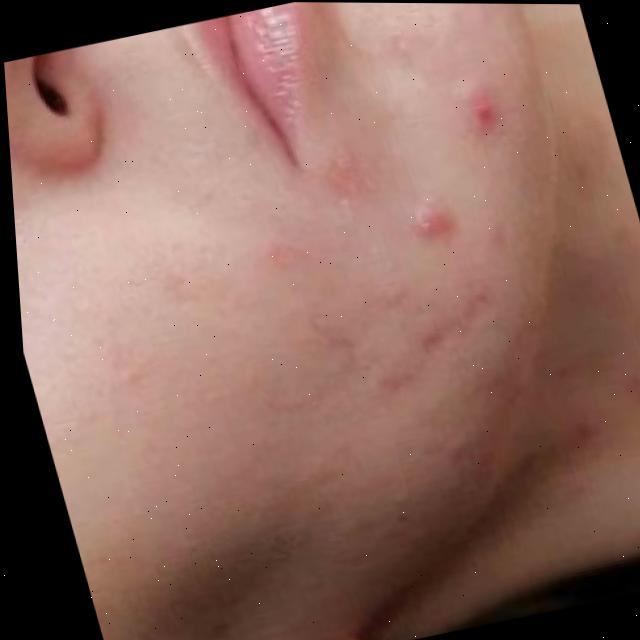Acne: (458, 90, 496, 132), (406, 198, 439, 241)
